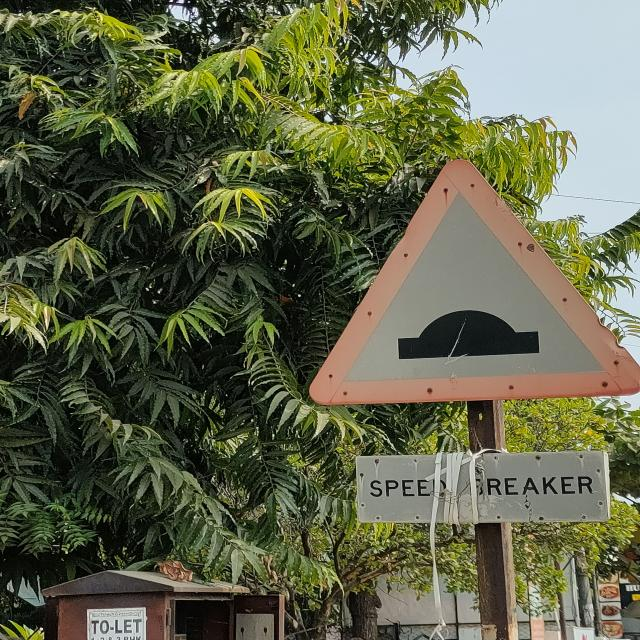HUMP_OR_ROUGH_ROAD: (308, 160, 640, 402)
